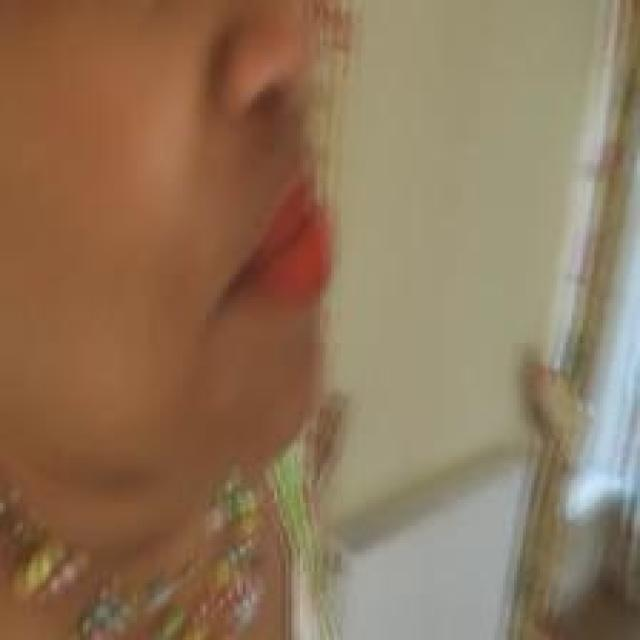other: (242, 190, 343, 302)
